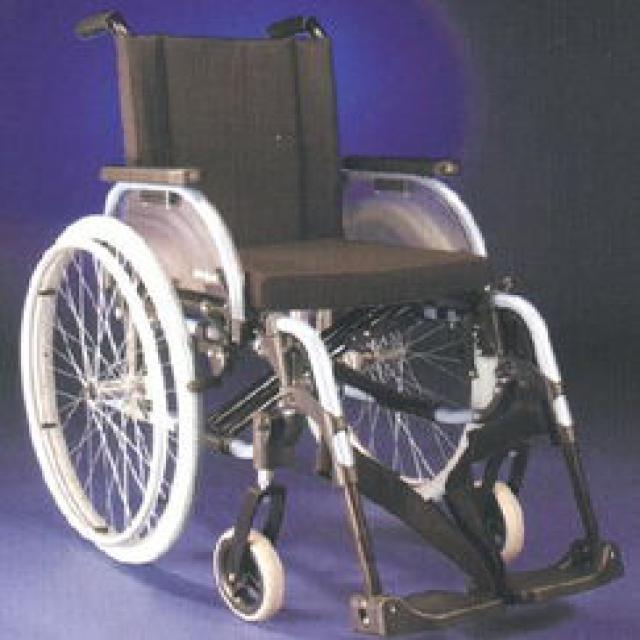wheelchairs: (19, 8, 629, 639)
